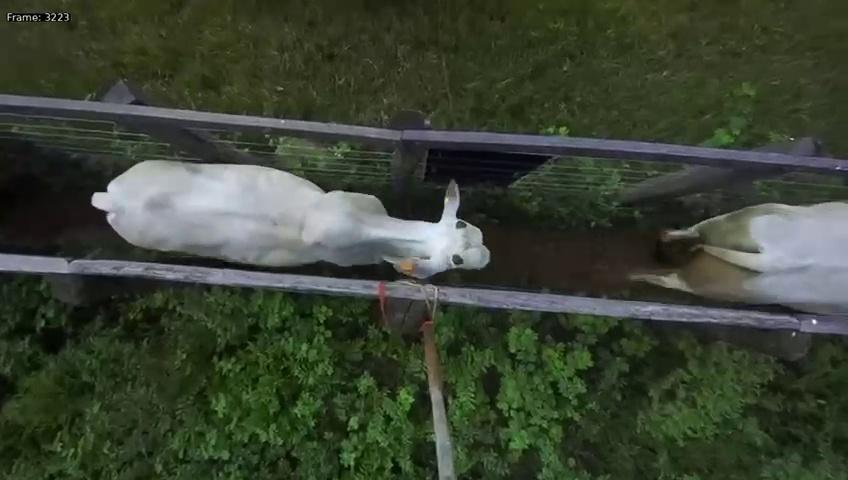cattle: (83, 152, 491, 285)
